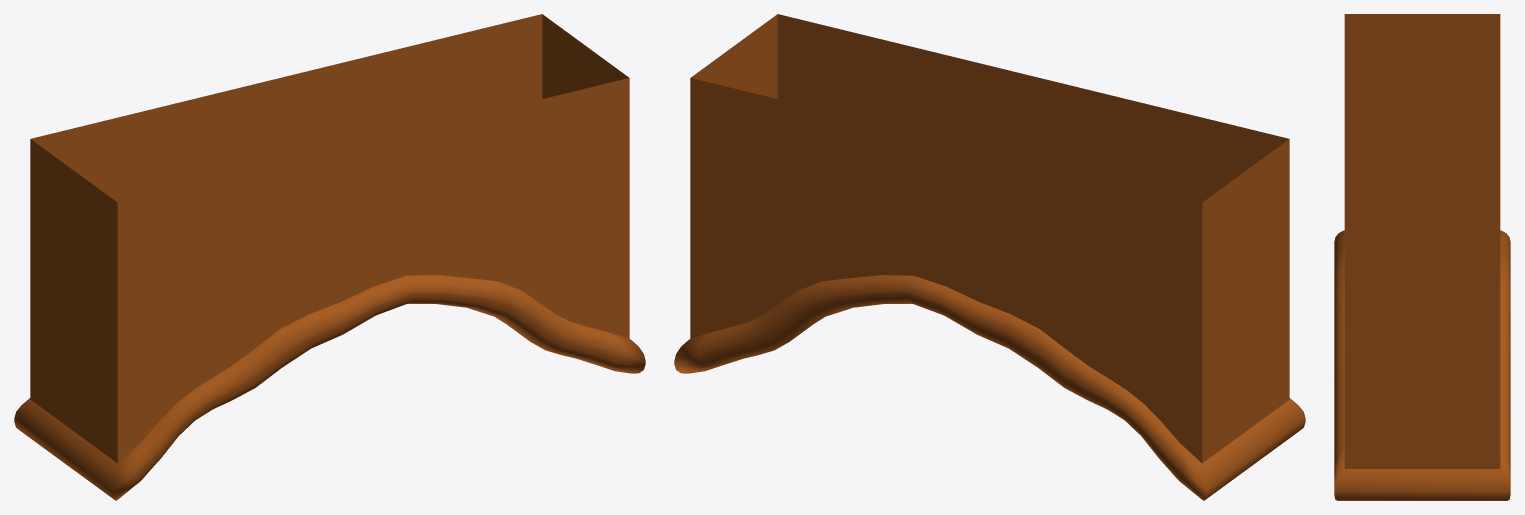
File: CarveBrown.fbx
The picture shows the model from 3 angles, left to right: view 1: azimuth 30°, elevation 25°; view 2: azimuth 150°, elevation 25°; view 3: azimuth 270°, elevation 25°; orthographic projection. The views are drawn at different scales.
Parts seen in each view (by area): view 1: ground_geo5; view 2: ground_geo5; view 3: ground_geo5.
Part boxes in pixels (x1=…): ground_geo5: x1=14, y1=14, x2=645, y2=500; ground_geo5: x1=674, y1=14, x2=1305, y2=500; ground_geo5: x1=1334, y1=14, x2=1510, y2=500.
Bounding box in the file's own units: 14.09 × 7.45 × 4.53.
